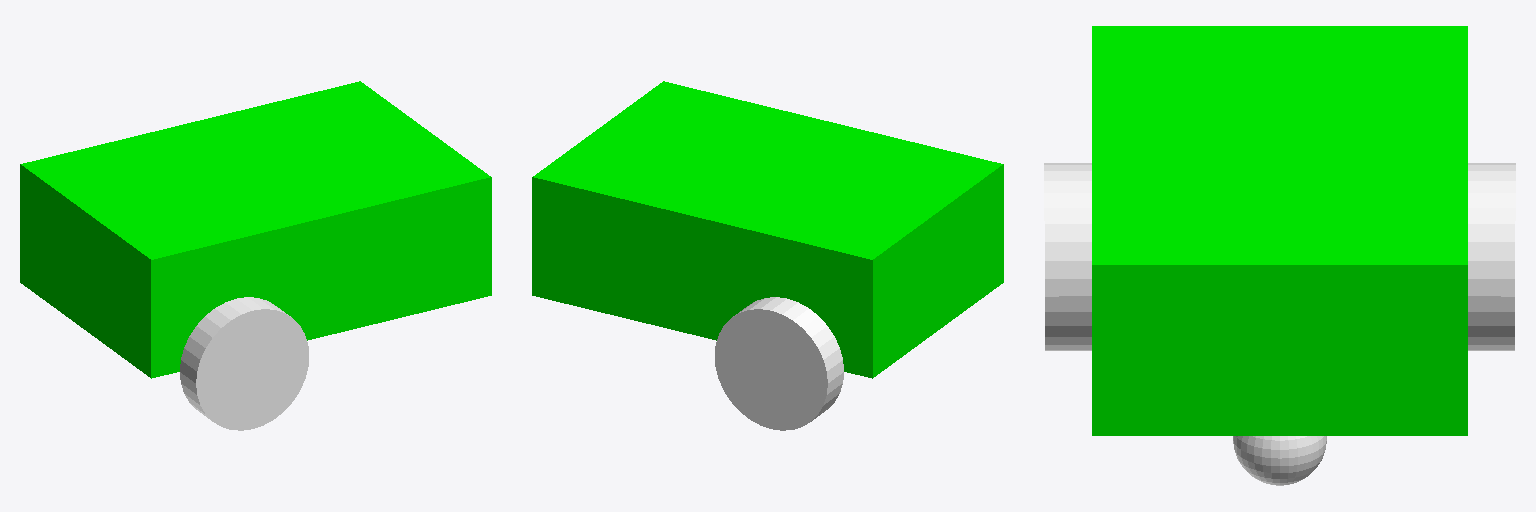
The robot description file, URDF, robot "Two_Wheel_robot":
<?xml version="1.0"?>

<robot name="Two_Wheel_robot">

    <material name="grey">
        <color rgba="1 1 1 1"/>
    </material>
    <material name="green">
        <color rgba="0.0 1 0.0 0.8"/>
    </material>

    <link name="base_link">
        <visual>
            <geometry>
                <box size="0.6 0.4 0.2"/>
            </geometry>
            <origin xyz="0 0 0.1" rpy="0 0 0"/>
            <material name="green"/>
        </visual>
    </link>


    <link name="right_wheel">
        <visual>
            <geometry>
                <cylinder radius="0.1" length="0.05"/>
            </geometry>
            <origin xyz="0 0 0" rpy ="-1.57 0 0"/>
            <material name="grey"/>
        </visual>
    </link>


    <link name="left_wheel">
        <visual>
            <geometry>
                <cylinder radius="0.1" length="0.05"/>
            </geometry>
            <origin xyz="0 0 0" rpy="1.57 0 0"/>
            <material name="grey"/>
        </visual>
    </link>


    <link name="caster_wheel">
        <visual>
            <geometry>
                <sphere radius="0.05"/>
            </geometry>
            <origin xyz="0 0 0" rpy="0 0 0"/>
            <material name="grey"/>
        </visual>
    </link>


    <link name="base footprint"/>

    <!-- joints! -->

    <joint name="base_with_rightWheel" type="continuous">
        <parent link="base_link"/>
        <child link="right_wheel"/>
        <origin xyz="-0.15 -0.225 0.0" rpy="0.0 0.0 0.0"/>
        <axis xyz="0.0 1 0.0"/>
    </joint>

    <joint name="base_with_leftWheel" type="continuous">
        <parent link="base_link"/>
        <child link="left_wheel"/>
        <origin xyz="-0.15 0.225 0.0" rpy="0.0 0.0 0.0"/>
        <axis xyz="0.0 1 0.0"/>
    </joint>

    <joint name="base_with_caster" type="fixed">
        <parent link="base_link"/>
        <child link="caster_wheel"/>
        <origin xyz="0.2 0.0 -0.05" rpy="0.0 0.0 0.0"/>
    </joint>

    <joint name="base_joint" type="fixed">
        <parent link="base_link"/>
        <child link="base footprint"/>
        <origin xyz="0.0 0.0 -0.05" rpy="0.0 0.0 0.0"/>
    </joint>


</robot>

--- Render facts (derived) ---
Views: 3 orthographic renders of the robot side by side, from view 1: azimuth 30°, elevation 25°; view 2: azimuth 150°, elevation 25°; view 3: azimuth 270°, elevation 25°.
Robot: Two_Wheel_robot — 5 links, 4 joints (2 continuous, 2 fixed); root link base_link; default pose: every joint at zero.
Links seen in each view (by area): view 1: base_link, right_wheel; view 2: base_link, left_wheel; view 3: base_link, right_wheel, left_wheel, caster_wheel.
Link boxes in pixels (left/top/right/bottom): base_link: left=20, top=81, right=491, bottom=378; right_wheel: left=180, top=297, right=308, bottom=430; base_link: left=532, top=81, right=1003, bottom=378; left_wheel: left=715, top=297, right=843, bottom=430; base_link: left=1092, top=26, right=1467, bottom=435; right_wheel: left=1044, top=163, right=1091, bottom=350; left_wheel: left=1468, top=163, right=1515, bottom=350; caster_wheel: left=1233, top=436, right=1326, bottom=485.
Bounding box of the posed robot: 0.6 × 0.5002 × 0.3 m (x, y, z).
Geometry: primitives only (box / cylinder / sphere), no mesh files.
